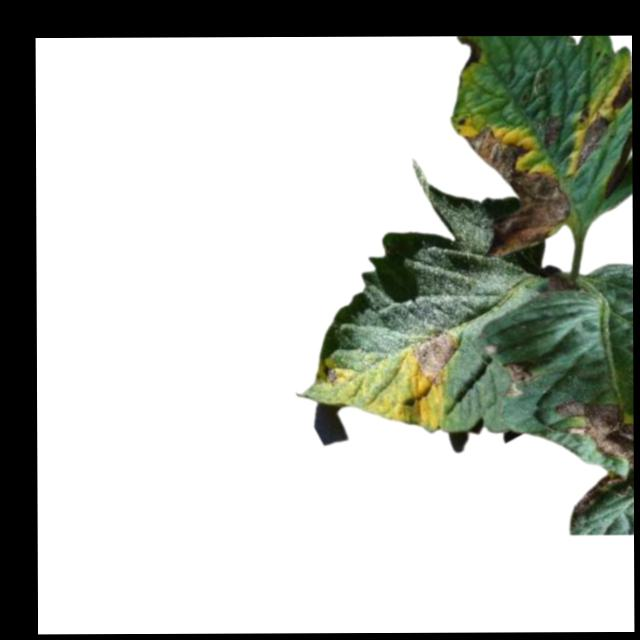Early_blight: (463, 121, 571, 261), (556, 398, 633, 516), (410, 329, 459, 387), (574, 114, 612, 175), (504, 361, 533, 396), (455, 36, 482, 71), (611, 72, 632, 112), (320, 363, 340, 388)
